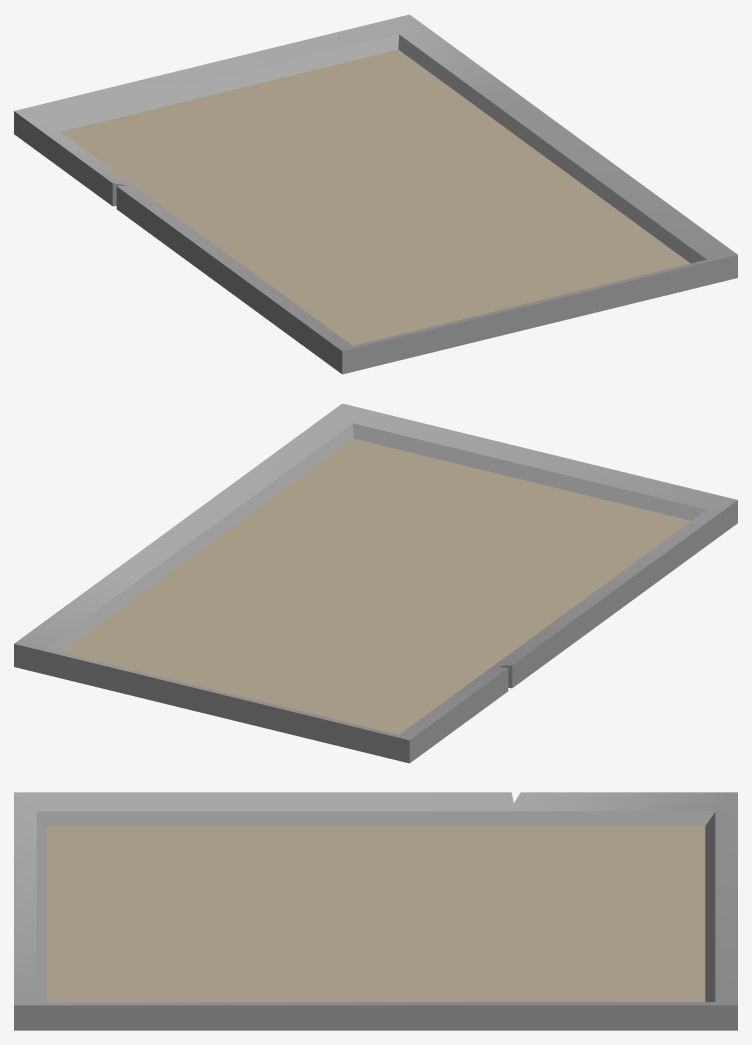
The model's file is PaintingMedium.fbx.
The picture shows the model from 3 angles, top to bottom: view 1: azimuth 30°, elevation 25°; view 2: azimuth 150°, elevation 25°; view 3: azimuth 270°, elevation 25°; orthographic projection. The views are drawn at different scales.
Visible parts, largest first — view 1: Picture, PaintingMedium; view 2: Picture, PaintingMedium; view 3: Picture, PaintingMedium.
Part boxes in pixels (box(x1,y1,x2,y2)): Picture: box(61, 49, 690, 345); PaintingMedium: box(14, 14, 737, 374); Picture: box(61, 438, 690, 734); PaintingMedium: box(14, 403, 737, 763); Picture: box(46, 826, 705, 1001); PaintingMedium: box(14, 792, 737, 1030).
Bounding box in the file's own units: 1.67 × 0.0933 × 2.4.
